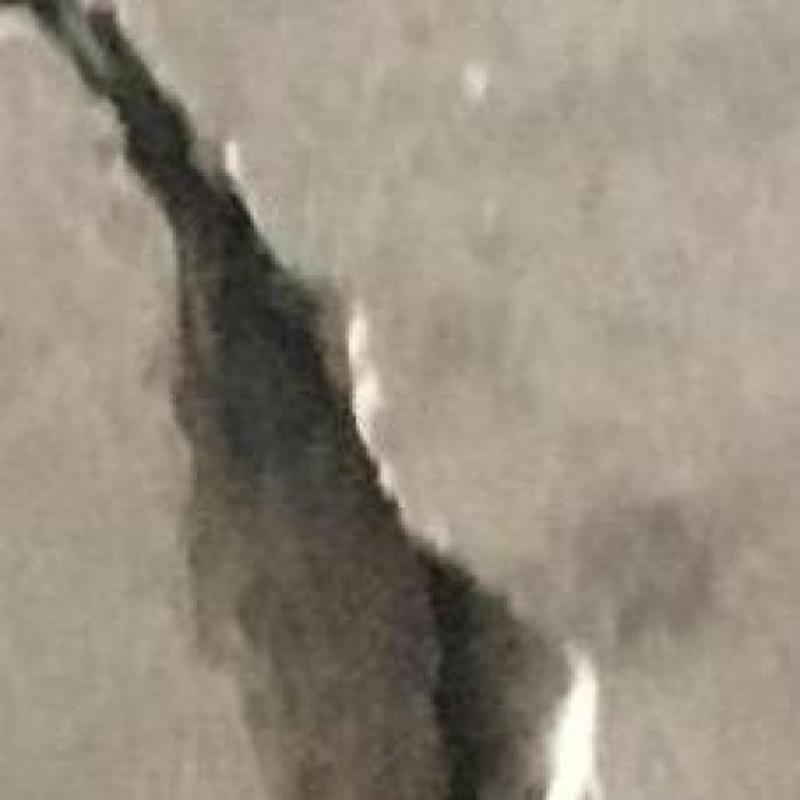pothole: (28, 0, 568, 799)
